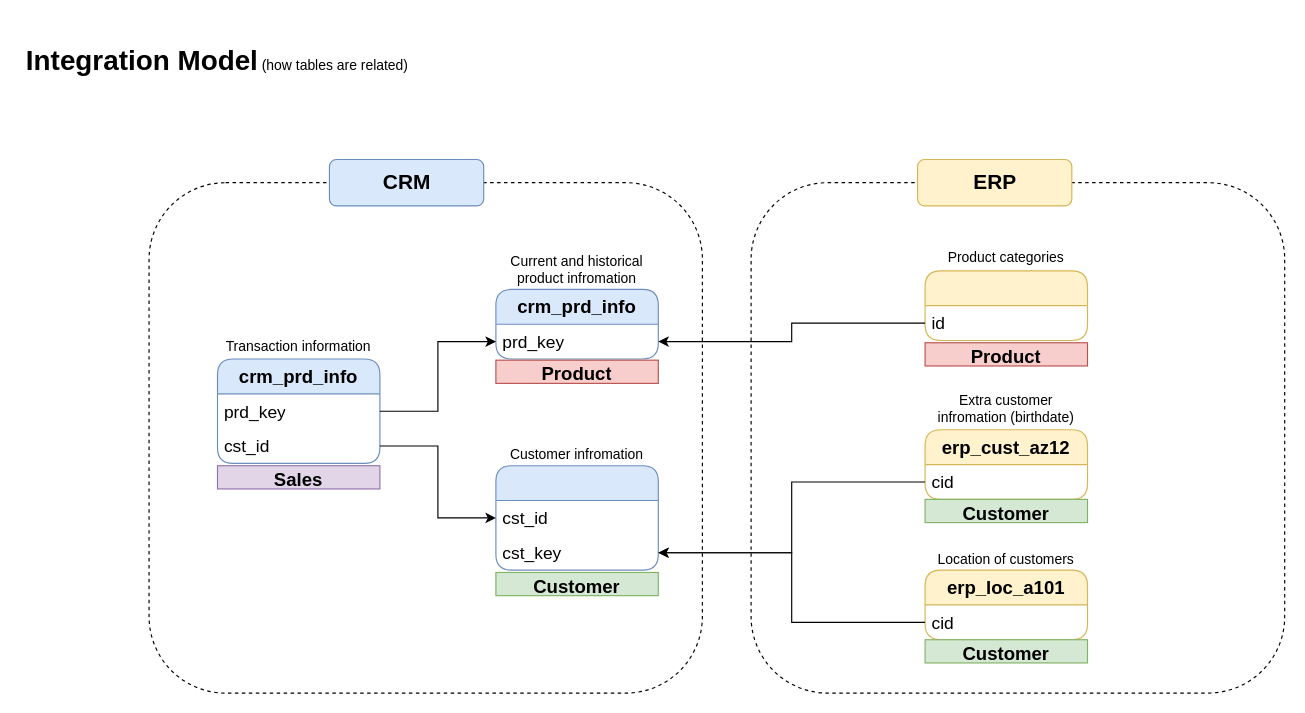
Image size: 1305x713. Some labels were removed from this diagram. The shapes that lost their labels are listed below. From the top down, each one's box as (x1, y1, x2, y2) in pixels, then its label:
(924, 270, 1088, 340): erp_px_cat_g1v2
(495, 465, 658, 570): crm_cust_info
